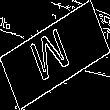M_SE: (31, 23, 79, 87)
